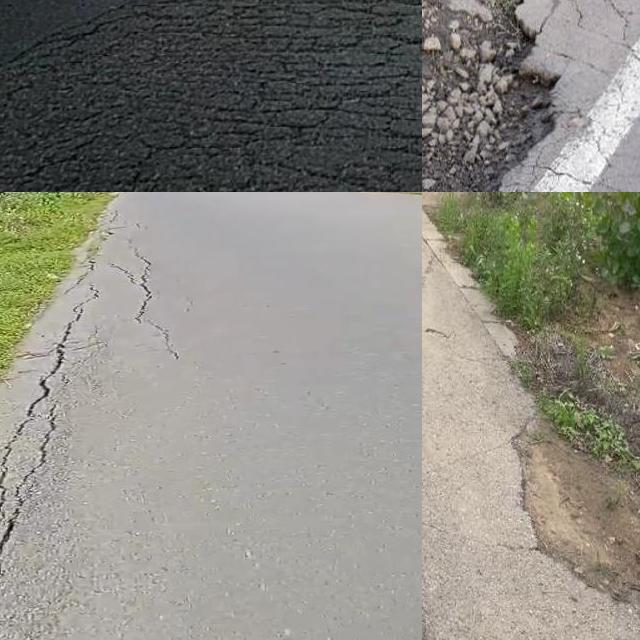Pinggir: (453, 283, 640, 638), (0, 231, 133, 596), (422, 0, 606, 192)
Retak Buaya: (46, 0, 422, 192)
